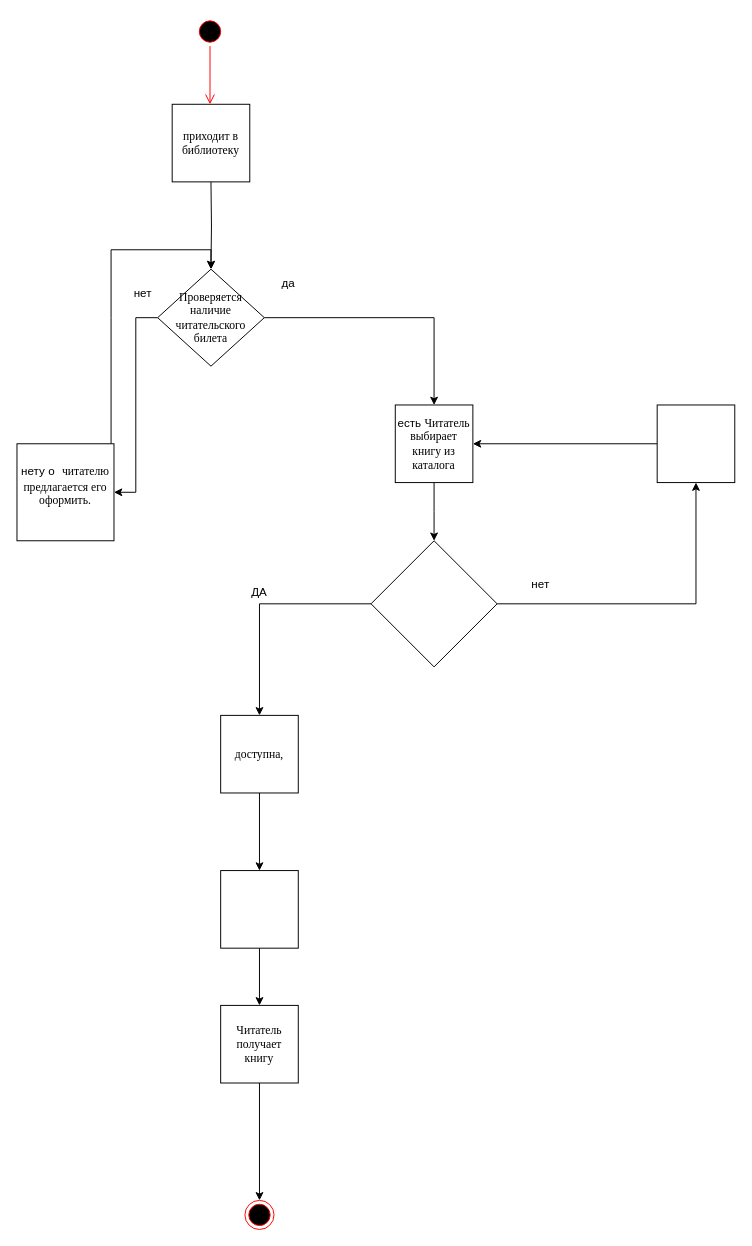
Image size: 752x1246. Some labels were removed from this diagram. Each missing label, with the box of its shape:
1. Система регистрирует выдачу книги.: (220, 870, 298, 948)
4.Проверяется доступность книги:: (370, 540, 497, 667)
недоступна, читателю предлагается выбрать другую книгу: (656, 404, 735, 483)
